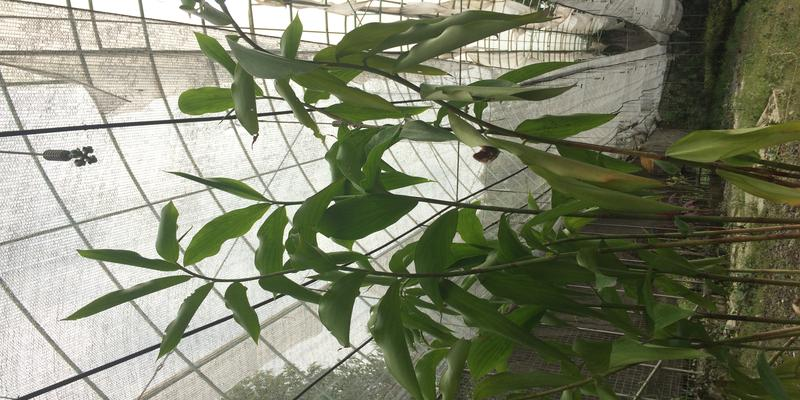Insulin: (193, 42, 790, 364)
